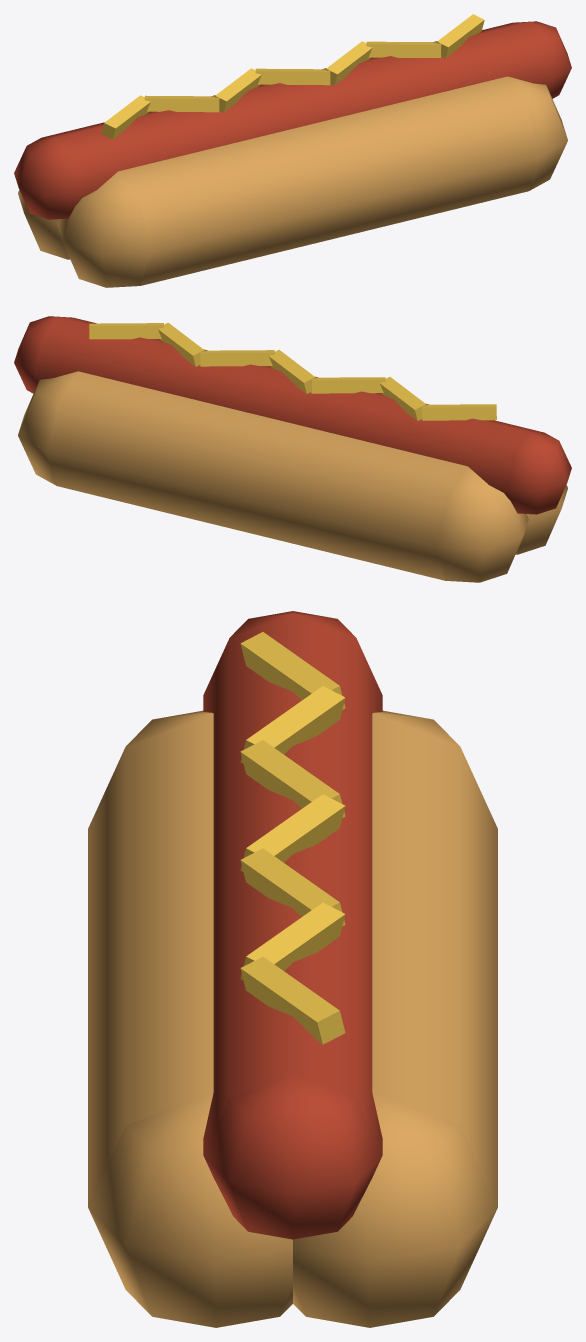
The model's file is hotdog.glb.
3 renders of one model, top to bottom at view 1: azimuth 30°, elevation 25°; view 2: azimuth 150°, elevation 25°; view 3: azimuth 270°, elevation 25°, orthographic. The views are drawn at different scales.
Parts seen in each view (by area): view 1: hotdog; view 2: hotdog; view 3: hotdog.
Boxes of the visible parts, <box> form: hotdog: <box>14,14,571,287</box>; hotdog: <box>14,316,571,582</box>; hotdog: <box>88,611,497,1327</box>.
Size of the model in its own units: 0.198 by 0.0536 by 0.064.
